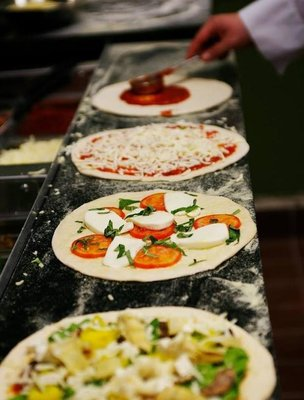curry: (223, 346, 249, 373)
